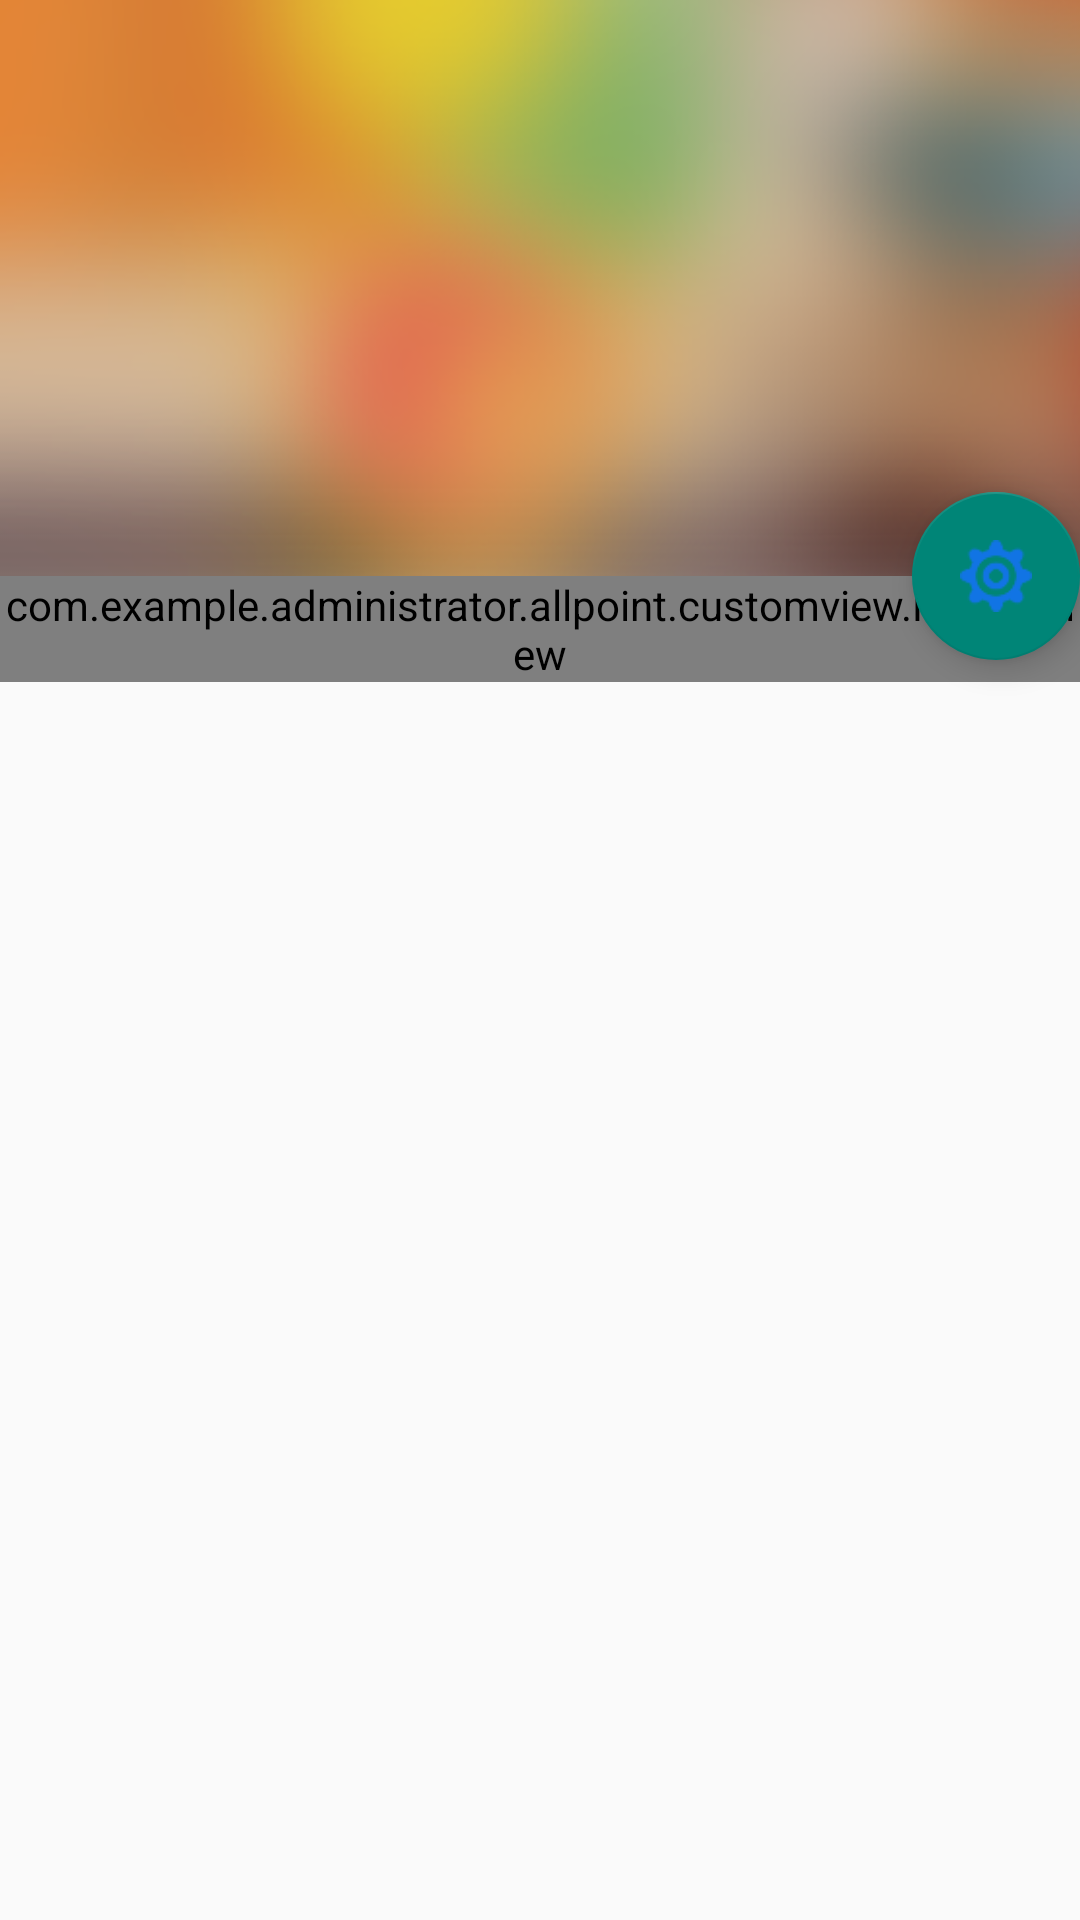

Named icons in this screenshot (1080px x 1920px) and their centers, (x=x, y=y):
setting: (x=996, y=576)
